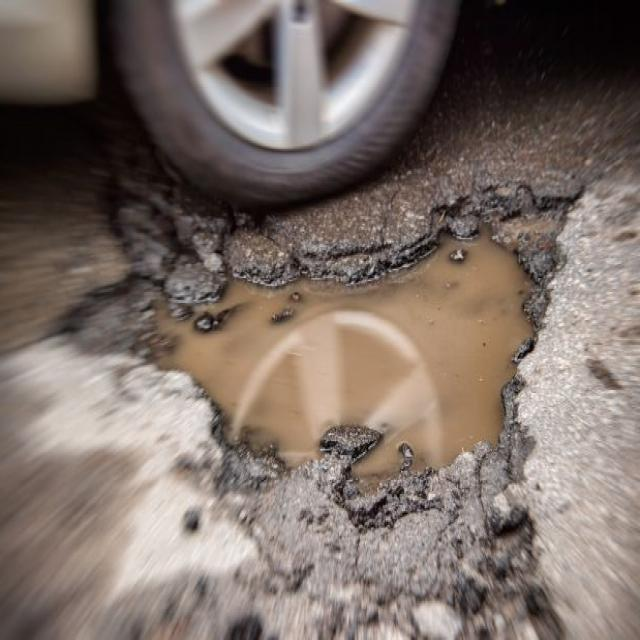pothole: (142, 172, 584, 510)
